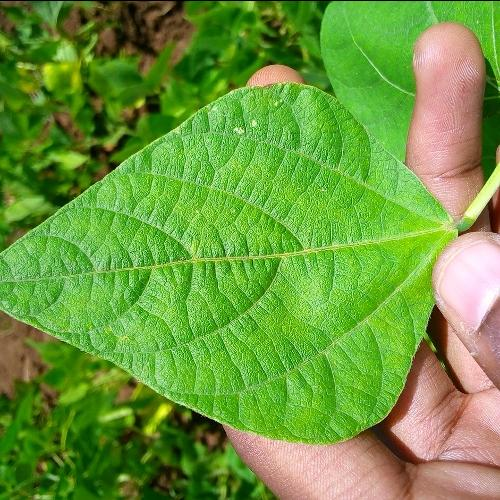hawar: (199, 96, 262, 148)
